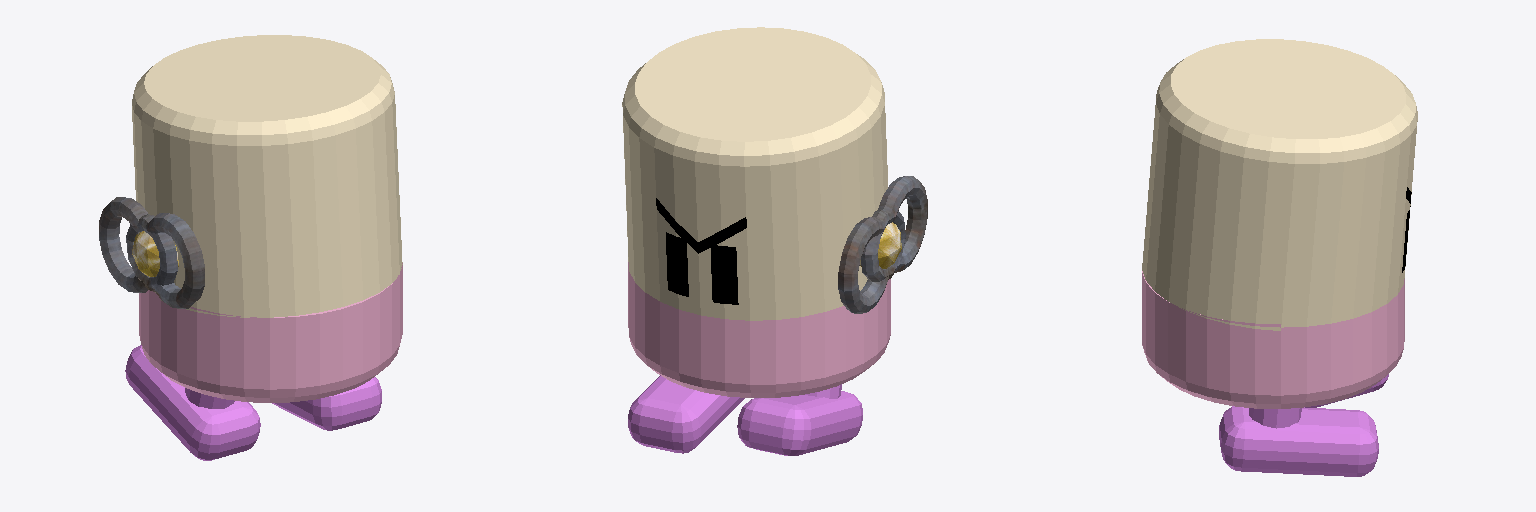
3 renders of one model, left to right at view 1: azimuth 30°, elevation 25°; view 2: azimuth 150°, elevation 25°; view 3: azimuth 270°, elevation 25°, orthographic.
Visible parts, largest first — view 1: Head, Jaw, WindupKey, LeftLeg, RightLeg; view 2: Head, Jaw, WindupKey, LeftLeg, RightLeg; view 3: Head, Jaw, RightLeg.
Boxes of the visible parts, box(x1,y1,x2,y2) form: Head: box(132, 35, 402, 317); Jaw: box(139, 263, 402, 402); WindupKey: box(99, 197, 204, 308); LeftLeg: box(125, 345, 260, 460); RightLeg: box(272, 377, 381, 430); Head: box(622, 27, 887, 320); Jaw: box(628, 262, 890, 397); WindupKey: box(838, 176, 927, 313); LeftLeg: box(737, 384, 862, 455); RightLeg: box(628, 375, 744, 453); Head: box(1142, 39, 1417, 330); Jaw: box(1142, 271, 1404, 408); RightLeg: box(1219, 406, 1378, 476).
Bounding box in the file's own units: 110 × 151 × 105.
Materials: 6 (2 with a texture image).